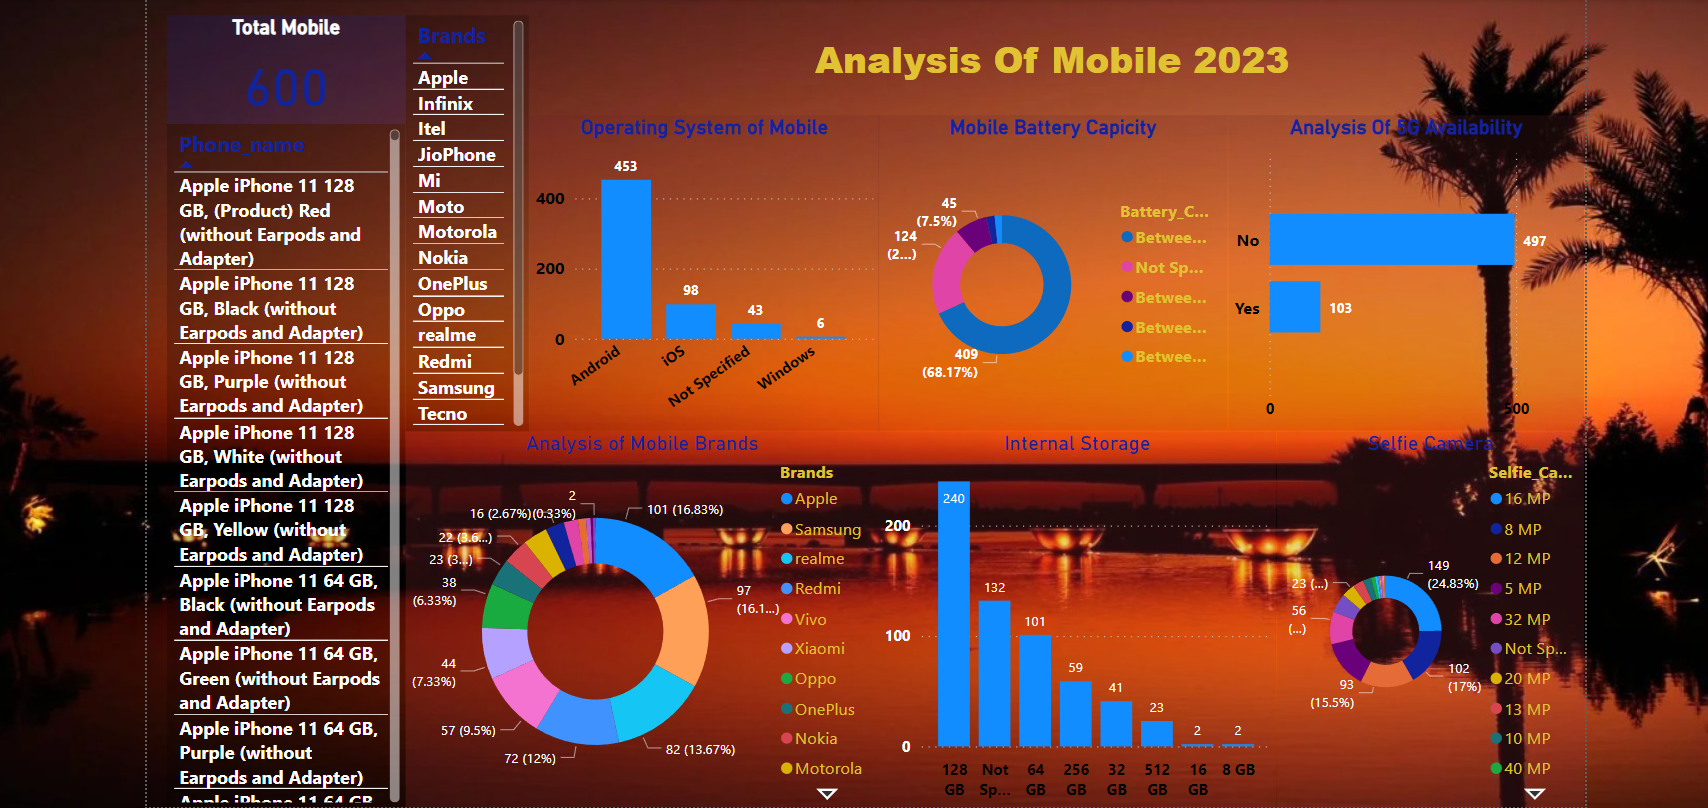

Layout of this report page (visuals, bound fields, positions):
{"tool":"powerbi","page":{"name":"Page 1","canvas":[1280,720],"ordinal":0},"visuals":[{"type":"card","title":"Total Mobile","fields":{"Values":["Sum(projectt mobile.Total_Mobile)"]},"box":[18.1,14.5,212.3,96.5],"z":0},{"type":"tableEx","fields":{"Values":["projectt mobile.Phone_name"]},"box":[18.1,111,212.3,609],"z":1},{"type":"tableEx","fields":{"Values":["projectt mobile.Brands"]},"box":[230.4,14.5,109.7,370.3],"z":2},{"type":"clusteredColumnChart","title":"Operating System of Mobile","fields":{"Category":["projectt mobile.Operating_System_Type"],"Y":["Sum(projectt mobile.Total_Mobile)"]},"box":[340.1,103.7,311.2,281],"z":3},{"type":"donutChart","title":"Mobile Battery Capicity ","fields":{"Category":["projectt mobile.Battery_Capacity_Range"],"Y":["Sum(projectt mobile.Total_Mobile)"]},"box":[651.3,103.7,311.2,281],"z":4},{"type":"barChart","title":"Analysis Of 5G Availability","fields":{"Y":["Sum(projectt mobile.Total_Mobile)"],"Category":["projectt mobile.5G_Availability"]},"box":[962.4,103.7,317.2,281],"z":5},{"type":"donutChart","title":"Analysis of Mobile Brands","fields":{"Category":["projectt mobile.Brands"],"Y":["Sum(projectt mobile.Total_Mobile)"]},"box":[230.4,384.7,420.9,335.3],"z":6},{"type":"columnChart","title":"Internal Storage ","fields":{"Y":["Sum(projectt mobile.Total_Mobile)"],"Category":["projectt mobile.Internal_Storage"]},"box":[651.3,384.7,354.6,335.3],"z":7},{"type":"donutChart","title":"Selfie Camera","fields":{"Y":["Sum(projectt mobile.Total_Mobile)"],"Category":["projectt mobile.Selfie_Camera"]},"box":[1005.8,384.7,273.8,335.3],"z":8},{"type":"textbox","box":[589.7,25.3,433,56.7],"z":9}]}

Visuals, with their boxes on the page's 1280x720 design canvas (x1, y1, x2, y2). These are canvas units, not pixel positions in the 1708x808 screenshot, which may show the page scaled, cropped or inside an application window:
"Total Mobile" card: BBox(18, 14, 230, 111)
tableEx - projectt mobile.Phone_name: BBox(18, 111, 230, 720)
tableEx - projectt mobile.Brands: BBox(230, 14, 340, 385)
"Operating System of Mobile" clusteredColumnChart: BBox(340, 104, 651, 385)
"Mobile Battery Capicity " donutChart: BBox(651, 104, 962, 385)
"Analysis Of 5G Availability" barChart: BBox(962, 104, 1280, 385)
"Analysis of Mobile Brands" donutChart: BBox(230, 385, 651, 720)
"Internal Storage " columnChart: BBox(651, 385, 1006, 720)
"Selfie Camera" donutChart: BBox(1006, 385, 1280, 720)
textbox: BBox(590, 25, 1023, 82)
